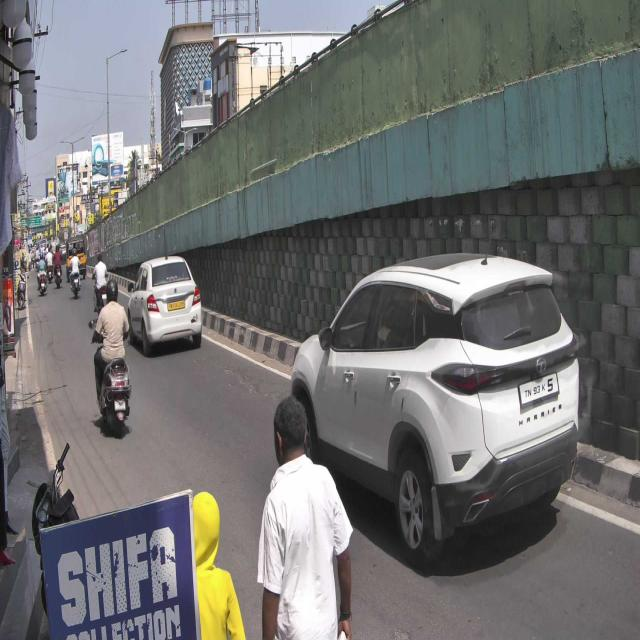single_rider: (87, 278, 133, 436)
